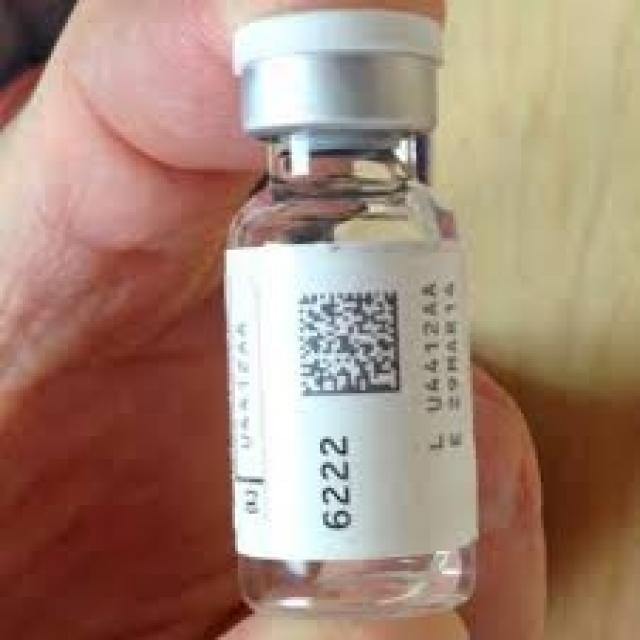datamatrix: (284, 282, 412, 403)
